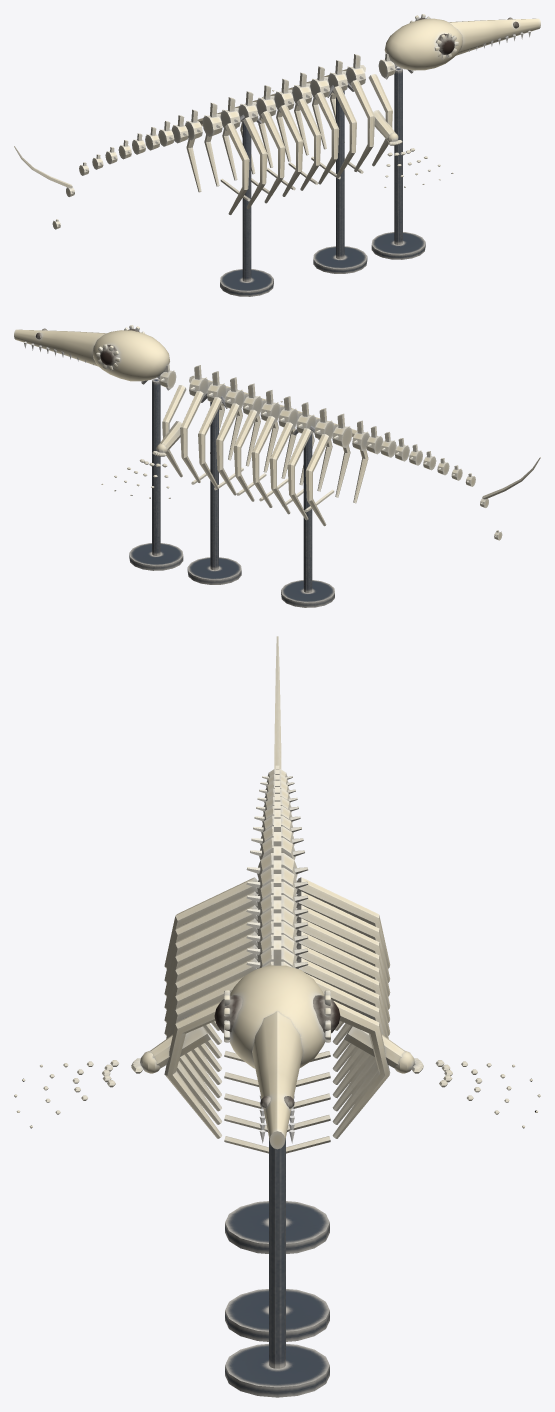
Rendered from skeleton_ichthyosaur.glb.
The picture shows the model from 3 angles, top to bottom: view 1: azimuth 30°, elevation 25°; view 2: azimuth 150°, elevation 25°; view 3: azimuth 270°, elevation 25°; orthographic projection. The views are drawn at different scales.
Parts seen in each view (by area): view 1: Ribs, Mount, Skull, Back, Tail, Flippers; view 2: Ribs, Mount, Skull, Back, Tail, Flippers; view 3: Ribs, Mount, Skull, Back, Flippers, Tail.
Boxes of the visible parts, bbox=[...] form: Ribs: bbox=[186, 65, 392, 214]; Mount: bbox=[220, 65, 425, 296]; Skull: bbox=[384, 14, 540, 70]; Back: bbox=[202, 54, 365, 136]; Tail: bbox=[14, 109, 202, 229]; Flippers: bbox=[262, 85, 453, 187]; Ribs: bbox=[162, 375, 368, 526]; Mount: bbox=[129, 376, 334, 607]; Skull: bbox=[14, 325, 169, 381]; Back: bbox=[189, 365, 352, 447]; Tail: bbox=[352, 420, 540, 540]; Flippers: bbox=[101, 396, 292, 498]; Ribs: bbox=[164, 877, 390, 1153]; Mount: bbox=[225, 1138, 329, 1397]; Skull: bbox=[214, 965, 340, 1149]; Back: bbox=[246, 832, 308, 968]; Flippers: bbox=[14, 1026, 540, 1128]; Tail: bbox=[250, 636, 304, 859].
Bounding box in the file's own units: 4.68 × 1.87 × 2.11.
Materials: 1 (1 with a texture image).
